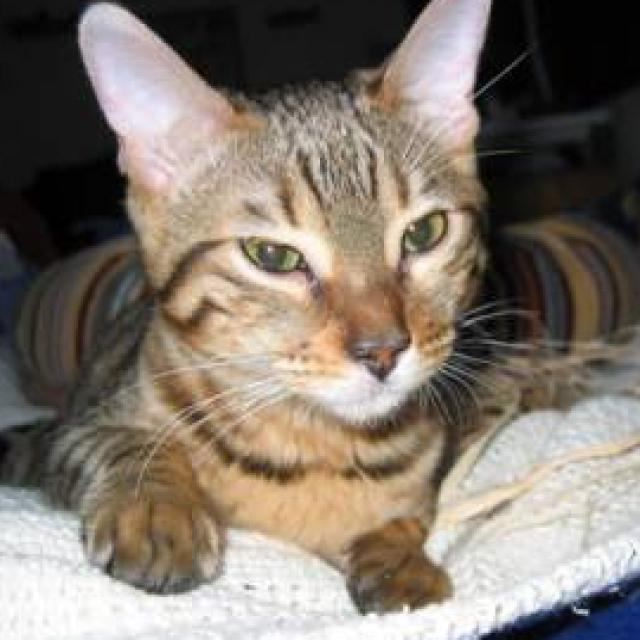Bengal: (0, 0, 512, 619)
